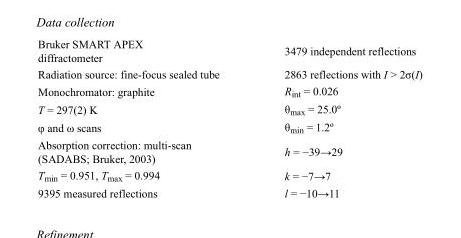table: (37, 37, 421, 199)
table column: (37, 37, 251, 199), (251, 37, 421, 199)
table row: (37, 136, 421, 166), (37, 37, 421, 65), (37, 82, 421, 100), (37, 100, 421, 118), (37, 118, 421, 136), (37, 166, 421, 184), (37, 65, 421, 82), (37, 184, 421, 199)
